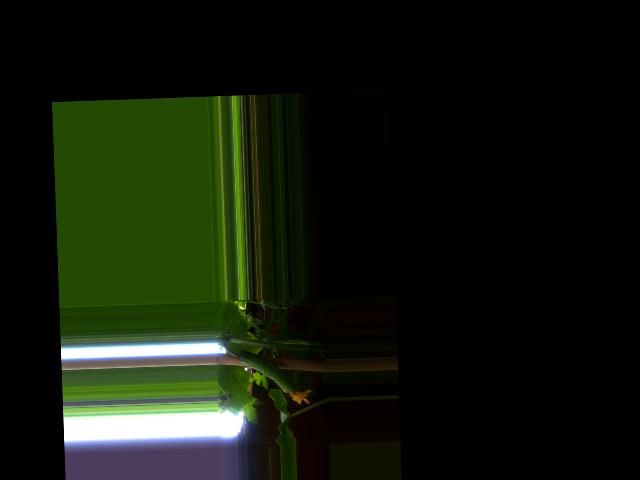cucumber: (236, 348, 312, 407)
